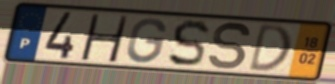4: (43, 10, 76, 61)
D: (246, 22, 294, 74)
G: (124, 17, 168, 65)
H: (78, 12, 130, 64)
S: (207, 20, 253, 72), (166, 18, 212, 69)
